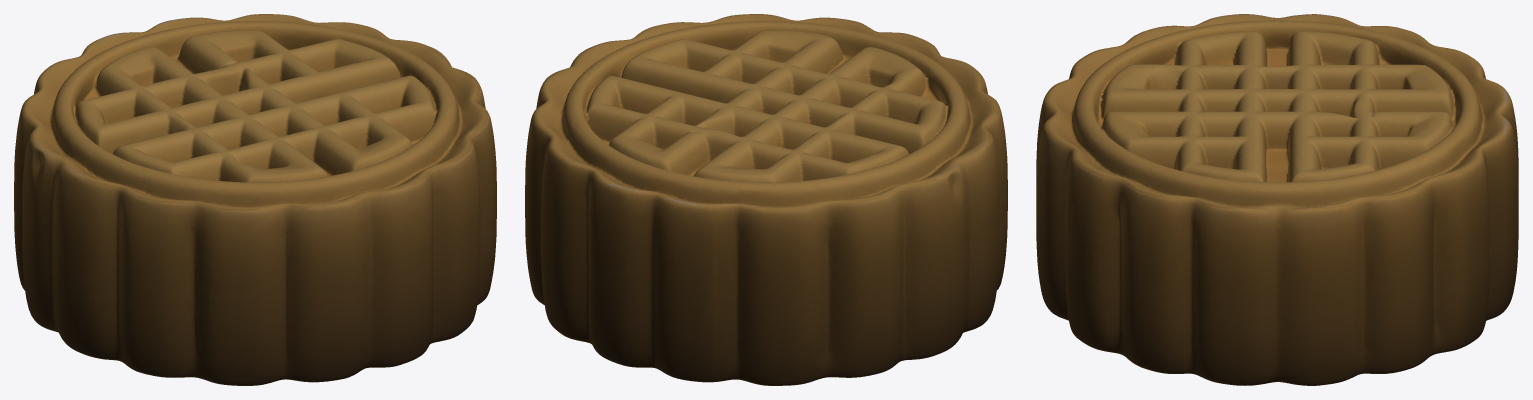
File: Meshy_AI_Golden_Lattice_Moonca_0926065628_texture.glb
3 views of the same model, side by side, from view 1: azimuth 30°, elevation 25°; view 2: azimuth 150°, elevation 25°; view 3: azimuth 270°, elevation 25° (orthographic).
Bounding box in the file's own units: 1.55 × 0.6935 × 1.55.
Materials: 1 (1 with a texture image).
